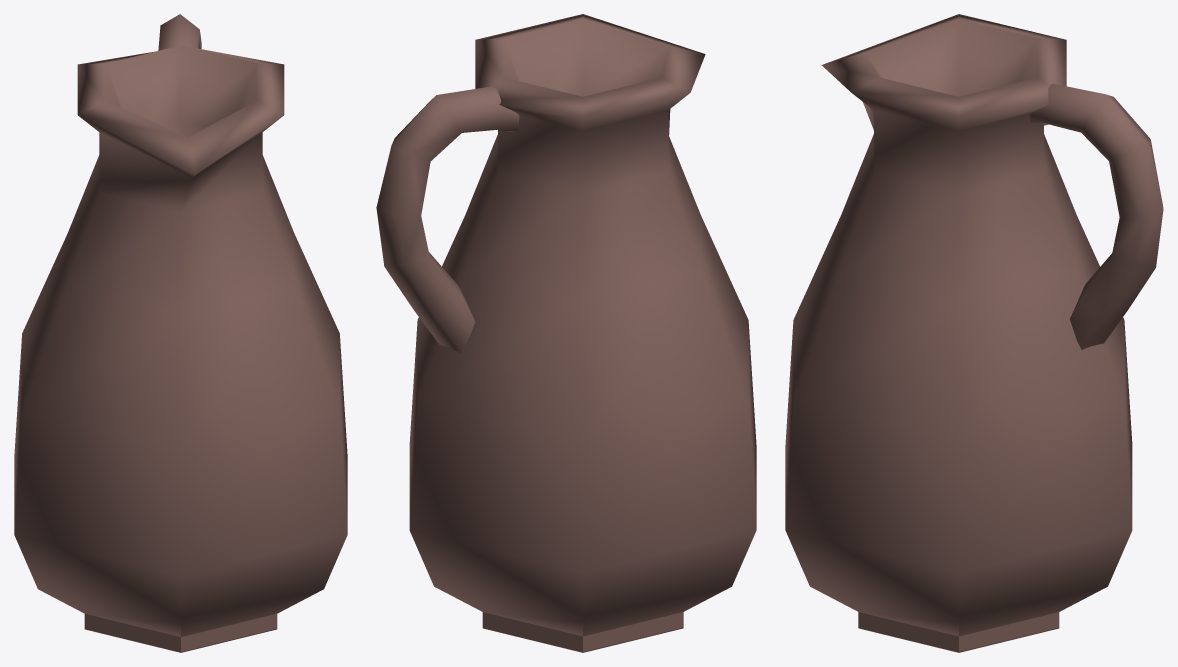
Rendered from Jug.fbx.
3 views of the same model, side by side, from view 1: azimuth 30°, elevation 25°; view 2: azimuth 150°, elevation 25°; view 3: azimuth 270°, elevation 25° (orthographic). The views are drawn at different scales.
Parts seen in each view (by area): view 1: jug; view 2: jug; view 3: jug.
Boxes of the visible parts, box(x1,y1,x2,y2) form: jug: box(14, 14, 347, 652); jug: box(376, 14, 756, 652); jug: box(785, 14, 1163, 652).
Size of the model in its own units: 22.72 by 34.13 by 21.44.
